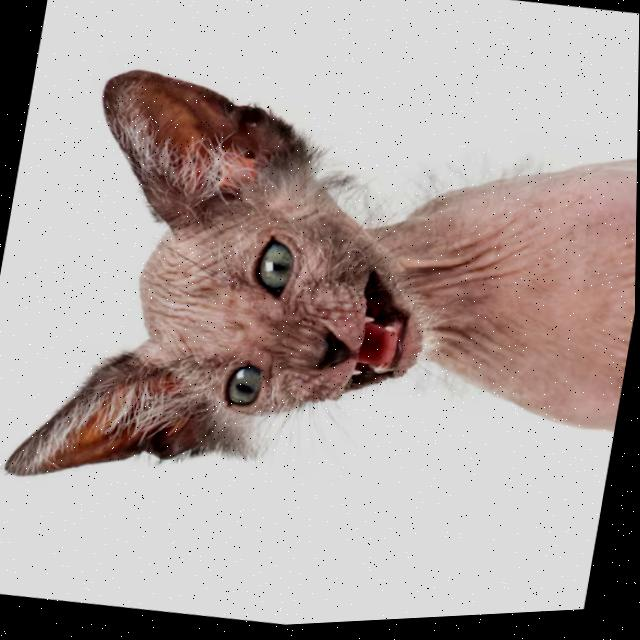Lykoi: (0, 35, 639, 574)
